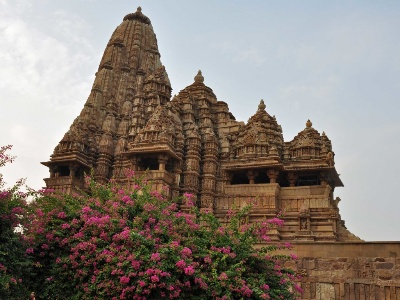amalaka: (119, 9, 158, 25)
gopuram: (70, 18, 181, 120)
mandapa: (212, 154, 283, 195), (116, 137, 180, 182), (285, 151, 343, 199), (28, 145, 96, 182)
